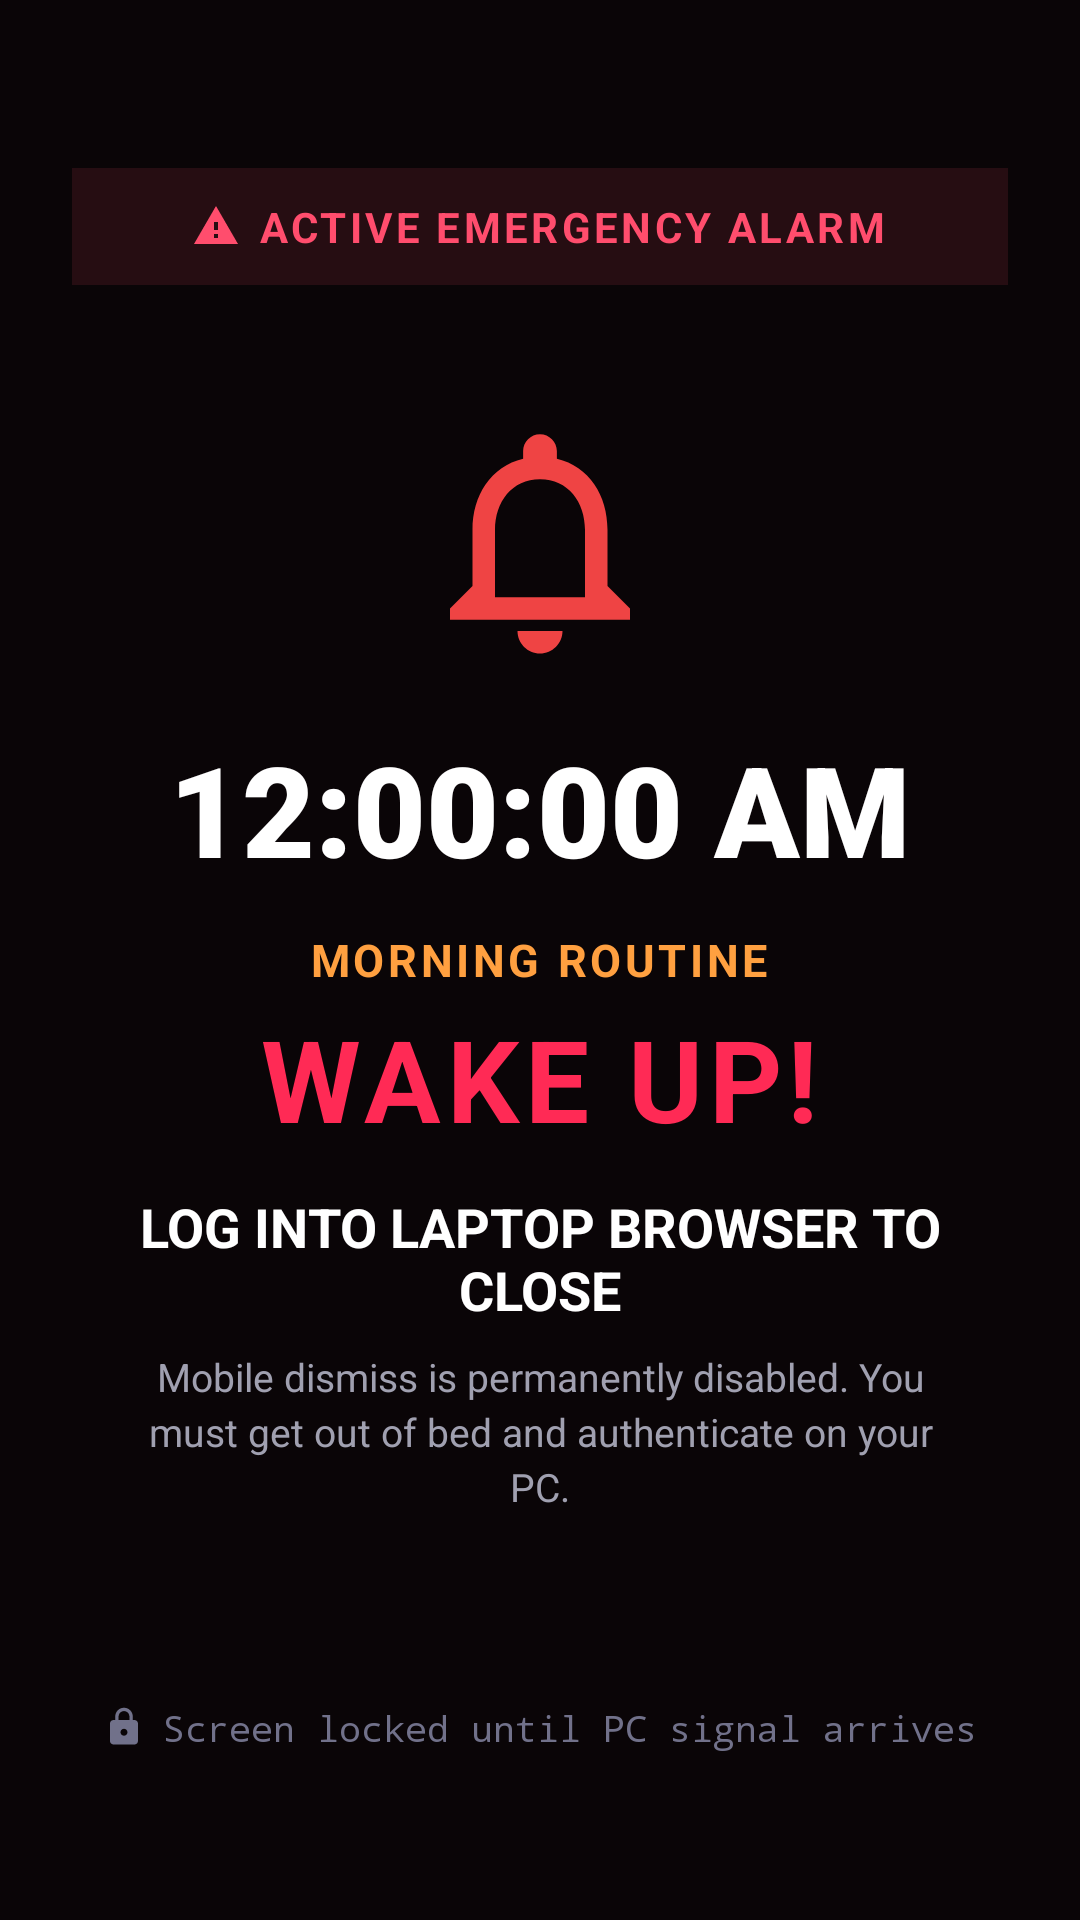

Where to tap for icons on this 1080*1920 app screen, as (x=x, y=y):
Alarm Icon: (x=540, y=544)
Lock icon: (x=124, y=1726)
Warning icon: (x=216, y=225)
